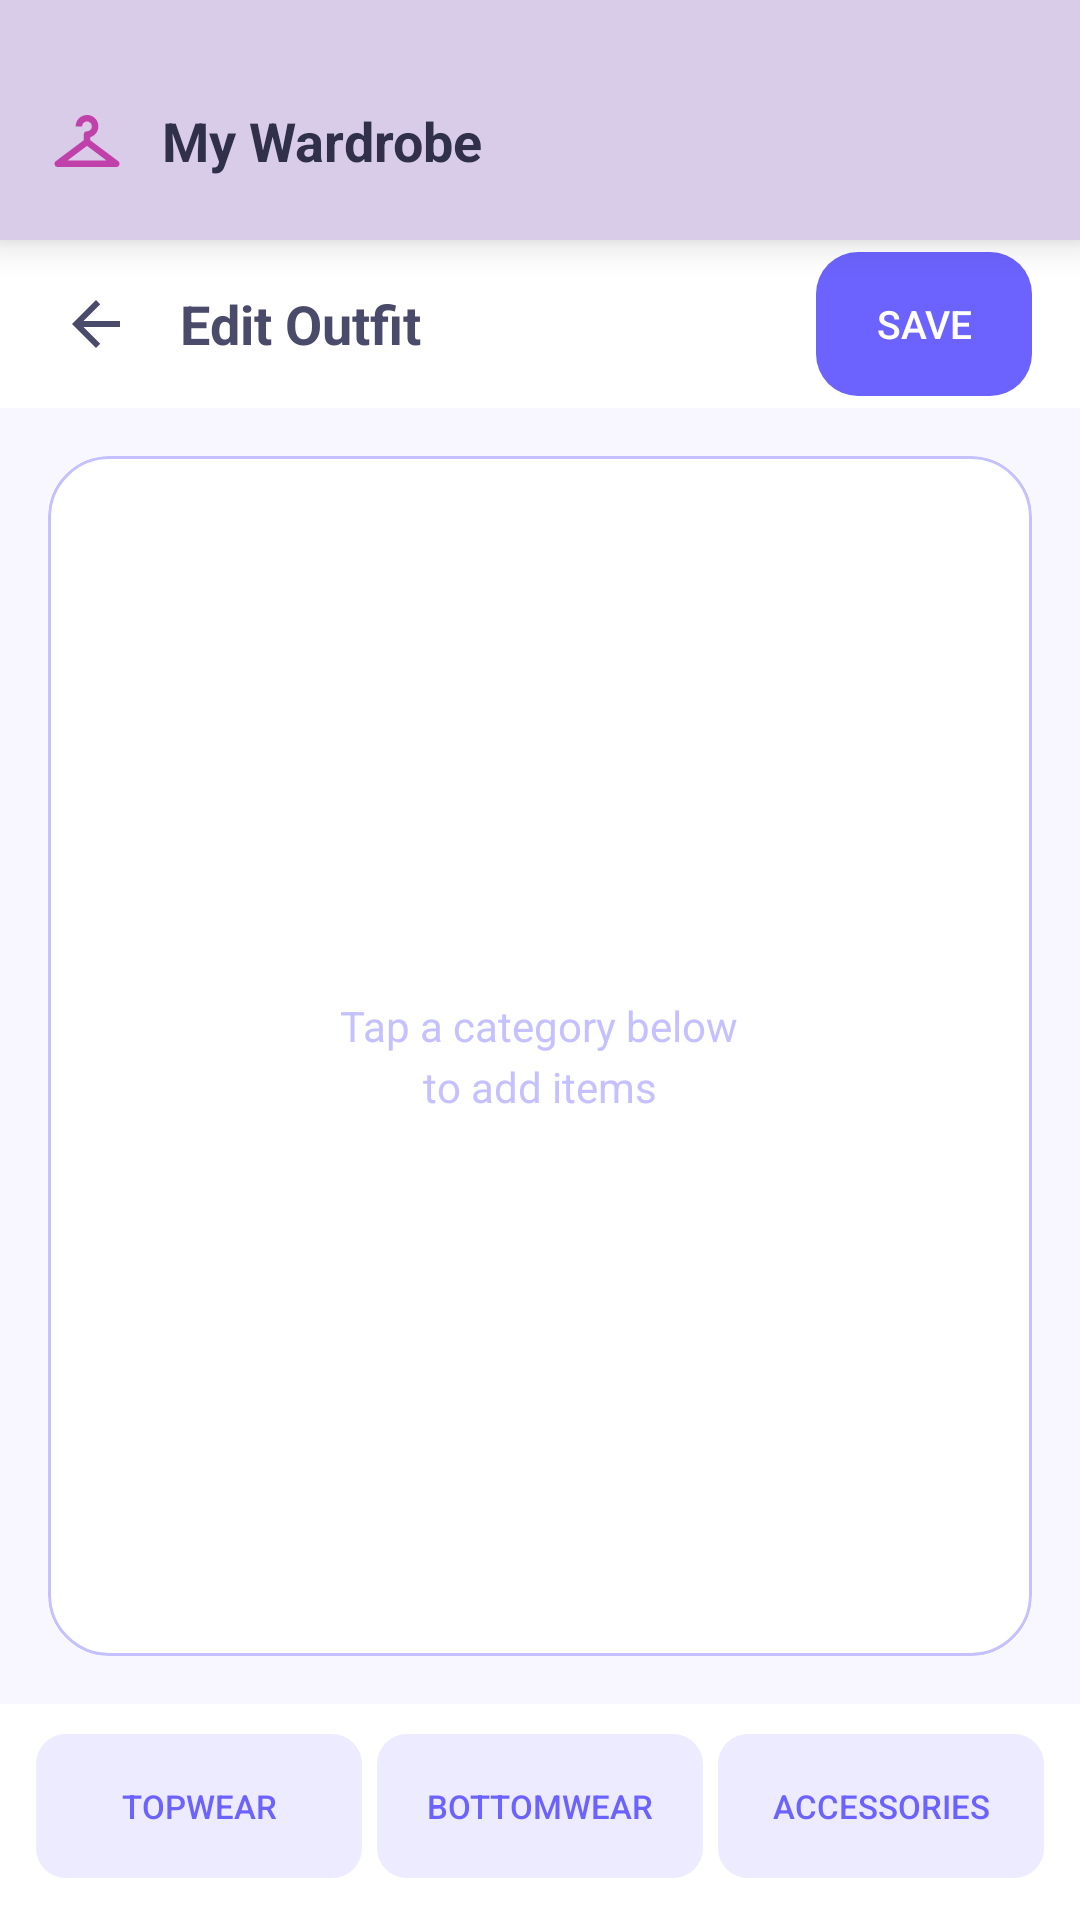

Named icons in this screenshot (1080px x 1920px) and their bounding boxes, box=[x1, y1, x2, y2]:
Back: box=[72, 300, 120, 348]
checkroom: box=[54, 115, 120, 167]
